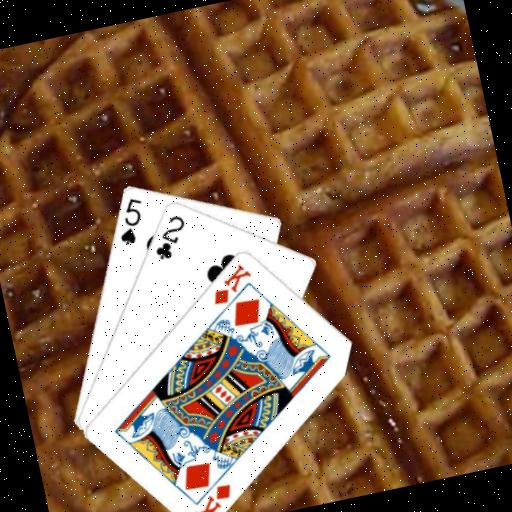2C: (145, 210, 194, 263)
5S: (108, 192, 150, 247)
KD: (203, 258, 258, 307), (186, 478, 239, 512)
